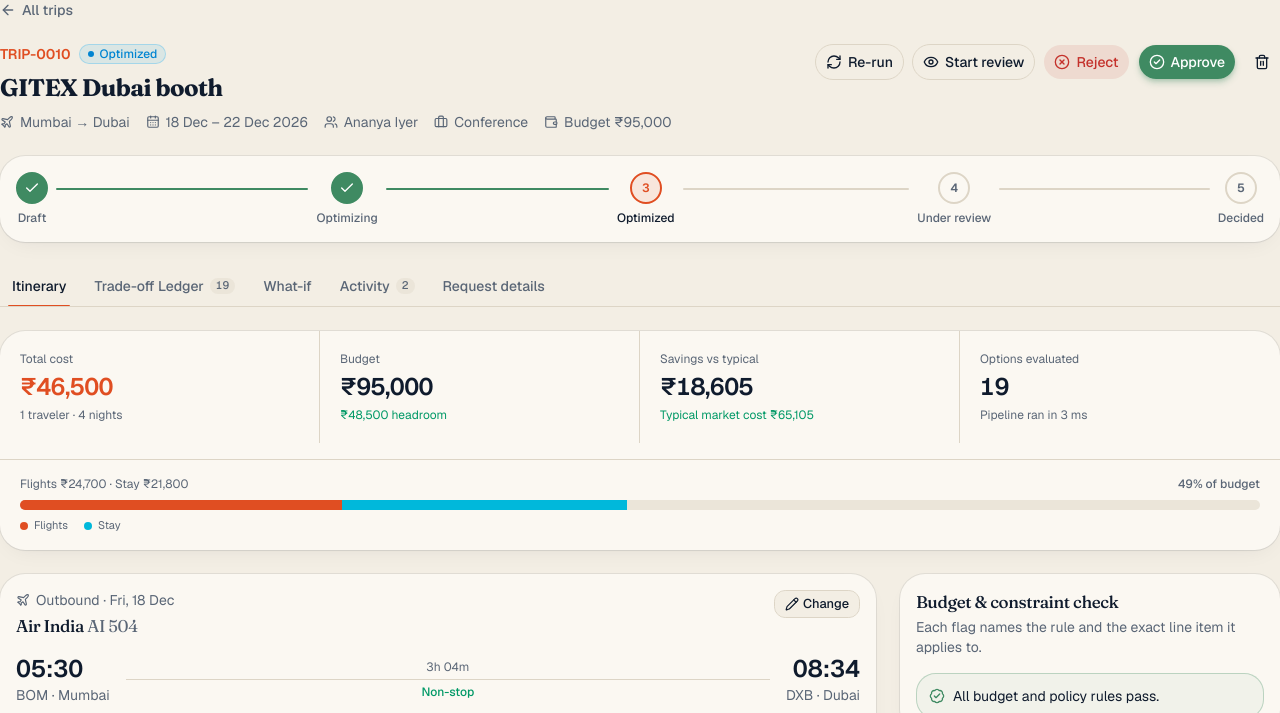
Test: trip review › approves without a note and shows the trip as decided
Click the button "Approve" at [1187, 62], box [1138,44,1236,80]
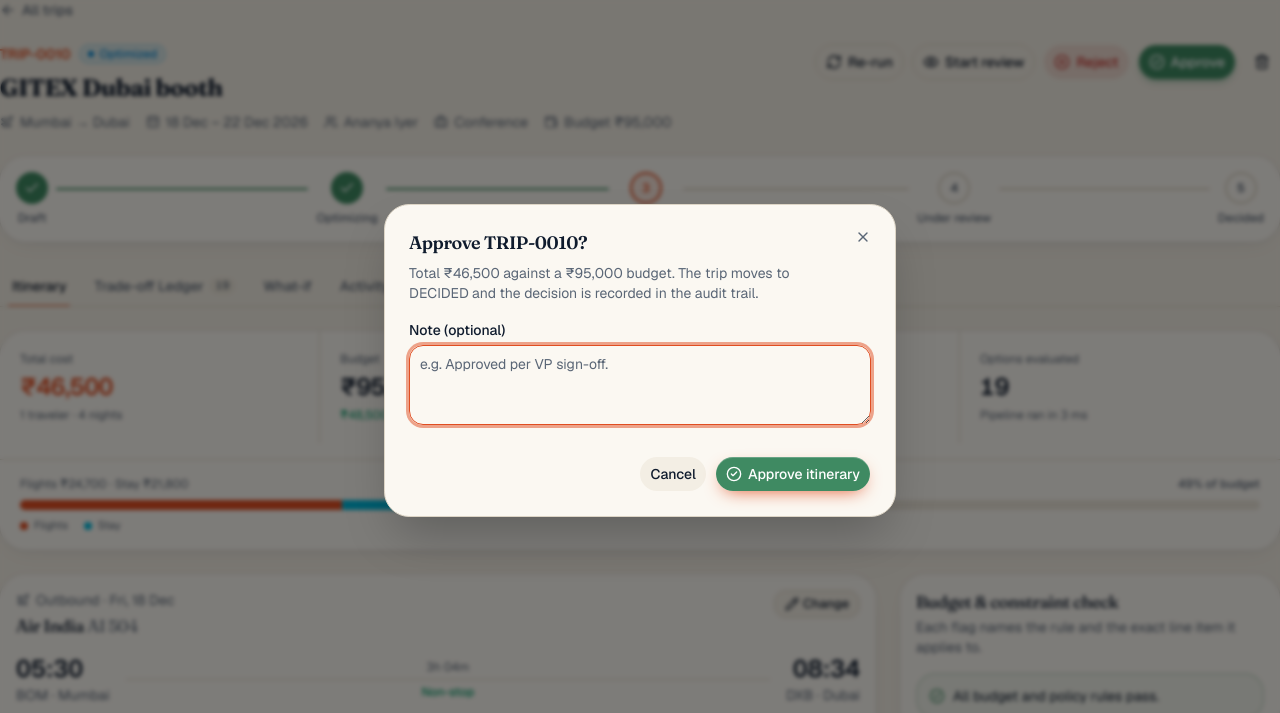
Click the button "Approve itinerary" at [793, 474], box [715,456,871,492]
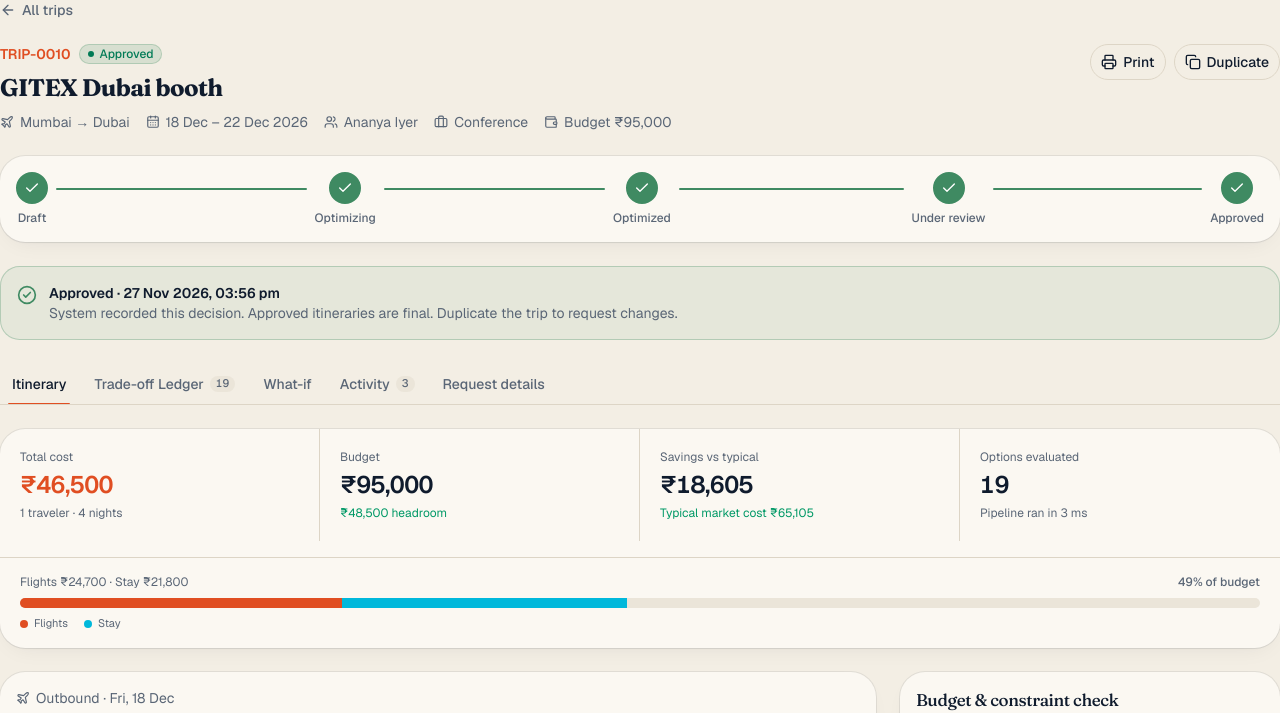
Expected: the text "Approved itineraries are final" is shown, [49,304,678,322]
